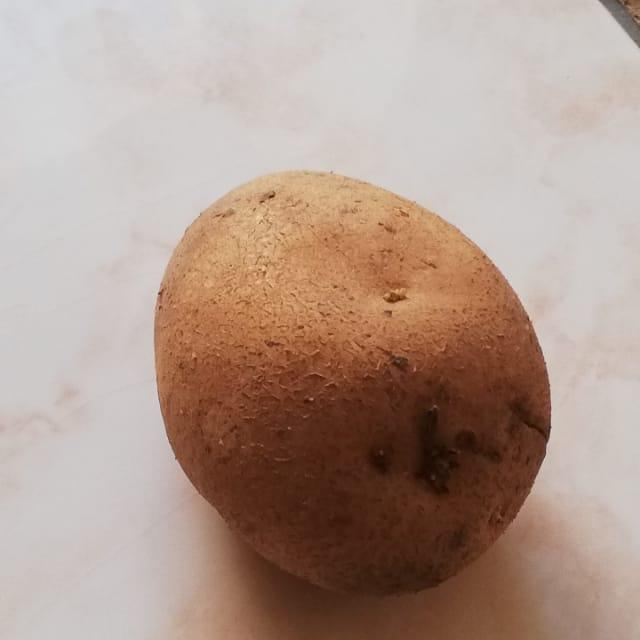potato: (142, 146, 569, 609)
